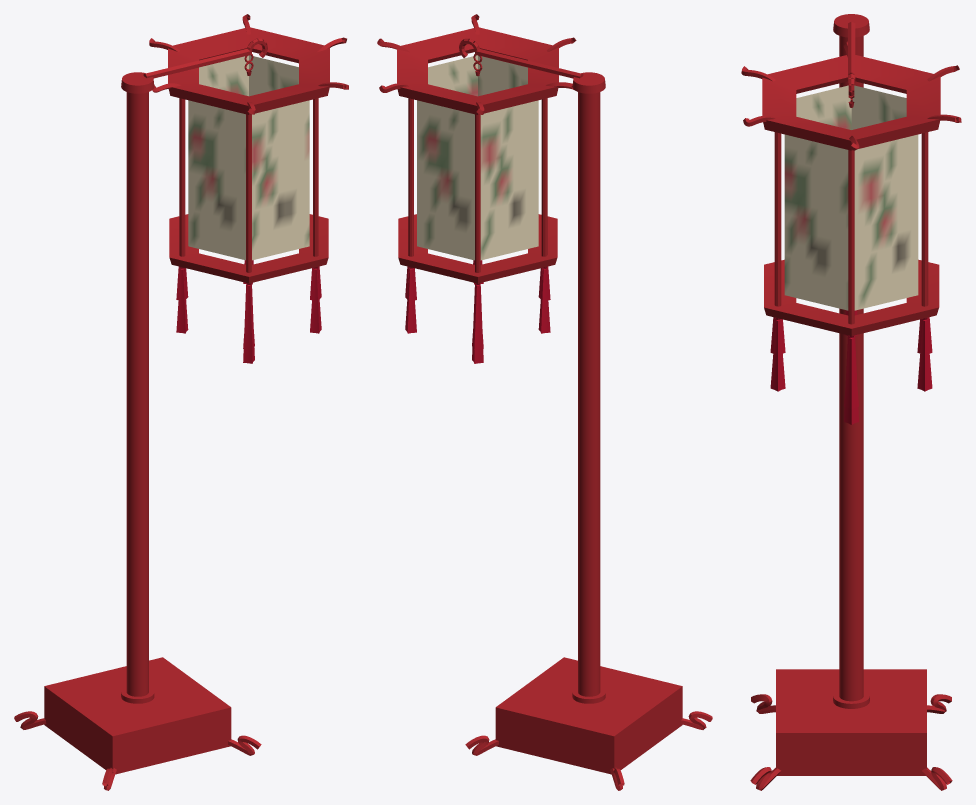
File: gongdeng-v3.glb
The picture shows the model from 3 angles, left to right: view 1: azimuth 30°, elevation 25°; view 2: azimuth 150°, elevation 25°; view 3: azimuth 270°, elevation 25°; orthographic projection. The views are drawn at different scales.
Parts seen in each view (by area): view 1: gongdeng_wood, gongdeng_gauze, gongdeng_tassel; view 2: gongdeng_wood, gongdeng_gauze, gongdeng_tassel; view 3: gongdeng_wood, gongdeng_gauze, gongdeng_tassel.
Part boxes in pixels (left/top/right/bottom): gongdeng_wood: left=14, top=14, right=348, bottom=790; gongdeng_gauze: left=188, top=55, right=309, bottom=260; gongdeng_tassel: left=176, top=260, right=321, bottom=363; gongdeng_wood: left=377, top=14, right=712, bottom=790; gongdeng_gauze: left=417, top=55, right=538, bottom=260; gongdeng_tassel: left=405, top=260, right=550, bottom=363; gongdeng_wood: left=741, top=14, right=961, bottom=790; gongdeng_gauze: left=784, top=85, right=918, bottom=310; gongdeng_tassel: left=770, top=310, right=932, bottom=424.
Size of the model in its own units: 0.7808 by 1.74 by 0.4674.
